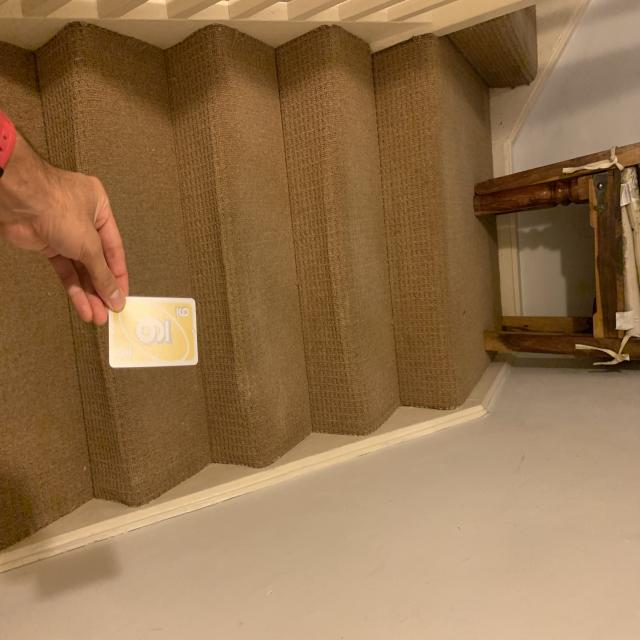lyellow-9: (172, 302, 192, 322)
